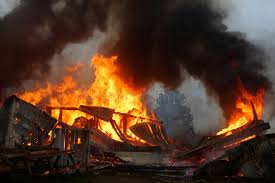fire: (30, 53, 272, 149)
